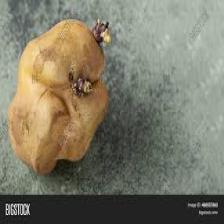Sprouted potato: (7, 14, 113, 174)
